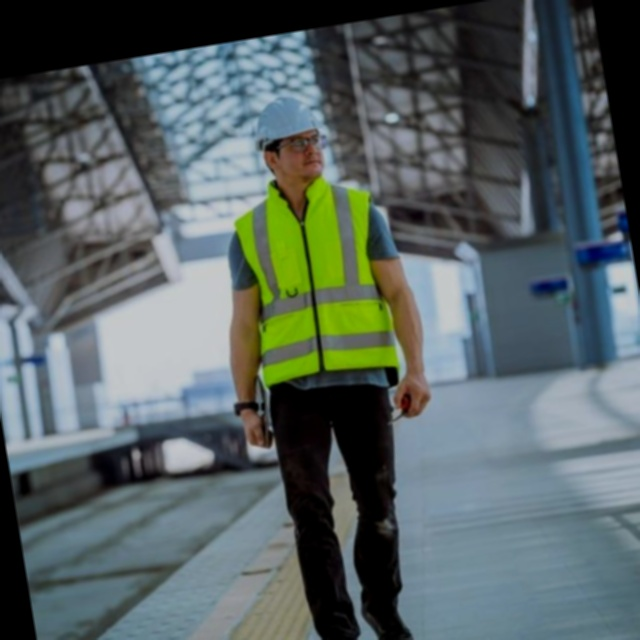Con_Casco: (248, 89, 331, 193)
Con_Chaleco: (226, 176, 402, 398)
